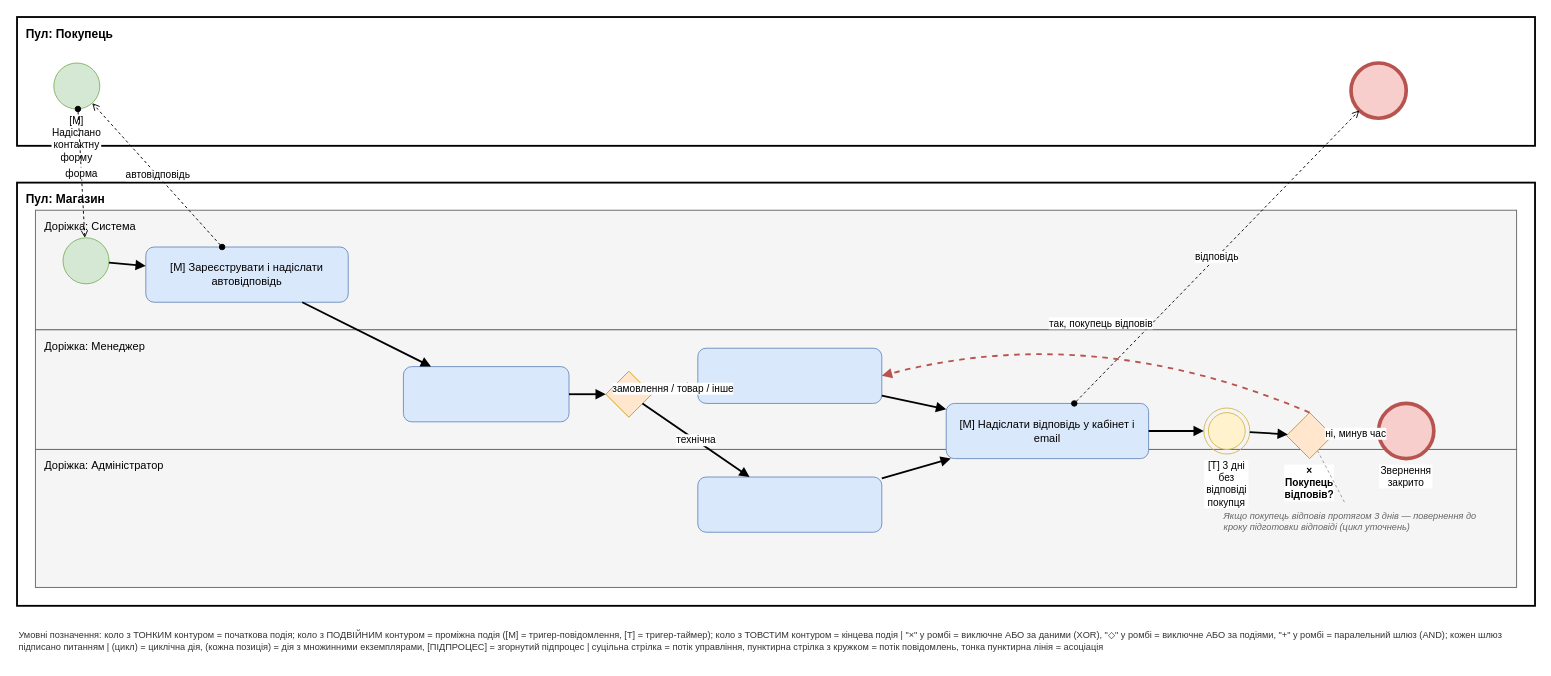
Some shapes in this 1551 by 676 pixel diagram are drawn without their labels. The shapes that lost their labels are listed below. From the top down, each one's centre as x and y in pixels, then its label:
the point at 1378,90: Отримано відповідь
the point at 85,260: [M] Отримано звернення
the point at 485,394: Класифікувати за темою
the point at 628,393: × Тип звернення?
the point at 789,375: Підготувати відповідь (замовлення / товар / інше)
the point at 789,504: Підготувати відповідь (технічна проблема)
